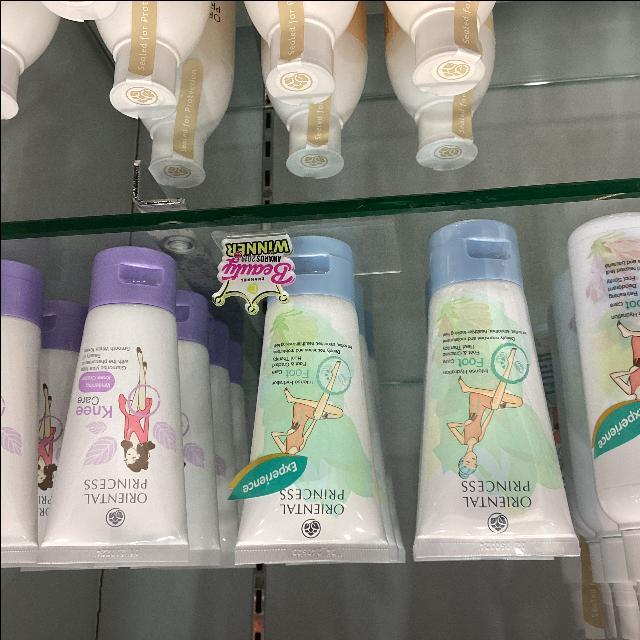Squeeze Tube: (0, 184, 640, 580), (411, 218, 594, 566), (30, 244, 199, 563), (227, 240, 392, 561)
